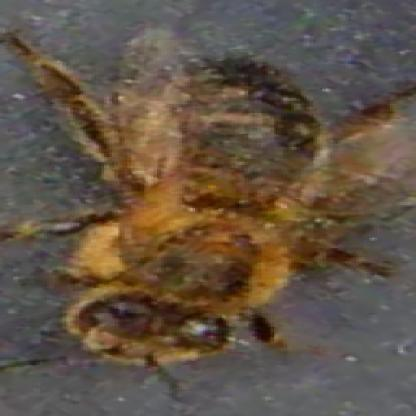bee: (40, 26, 319, 358)
